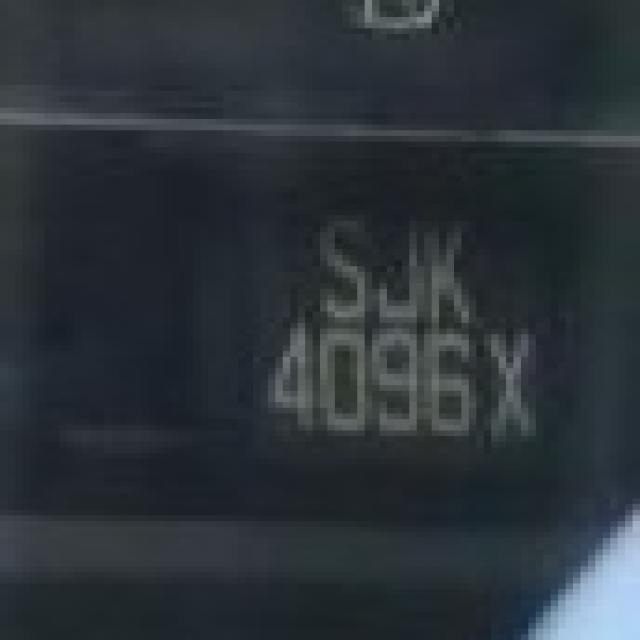0: (321, 329, 373, 437)
4: (253, 326, 320, 434)
6: (422, 334, 474, 435)
9: (372, 331, 419, 436)
J: (374, 212, 421, 324)
K: (423, 220, 479, 330)
S: (316, 212, 373, 326)
X: (478, 329, 542, 439)
